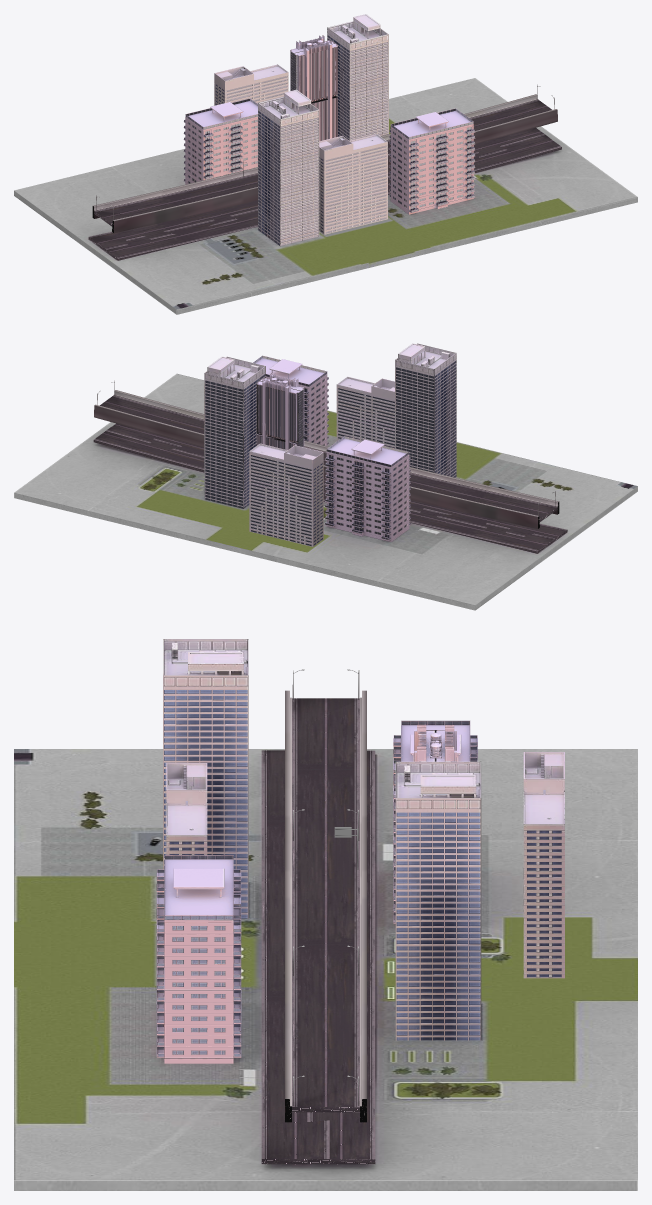
File: colony_fukan_v2.glb
3 renders of one model, top to bottom at view 1: azimuth 30°, elevation 25°; view 2: azimuth 150°, elevation 25°; view 3: azimuth 270°, elevation 25°, orthographic. The views are drawn at different scales.
Parts seen in each view (by area): view 1: floor, Building_02, Building_09, colony_road, Building_05, colony_road_side, Building_01; view 2: floor, Building_02, Building_05, Building_09, colony_road, colony_road_side, Building_01; view 3: floor, colony_road, Building_02, Building_09, Building_05, colony_road_side, Building_01.
Part boxes in pixels (x1,y1,x2,y2): floor: (14,78,637,314); Building_02: (258,14,388,246); Building_09: (183,98,475,214); colony_road: (88,99,561,260); Building_05: (214,64,387,234); colony_road_side: (92,94,557,233); Building_01: (290,35,337,141); floor: (14,373,637,610); Building_02: (204,343,456,508); Building_05: (249,376,394,546); Building_09: (253,355,410,541); colony_road: (93,395,567,553); colony_road_side: (94,390,559,528); Building_01: (256,372,304,449); floor: (14,749,637,1190); colony_road: (261,698,375,1164); Building_02: (163,639,481,1040); Building_09: (156,720,477,1063); Building_05: (166,752,564,978); colony_road_side: (285,690,366,1122); Building_01: (414,724,456,761).
Size of the model in its own units: 180 by 51.29 by 110.
15 materials, 13 textured.
